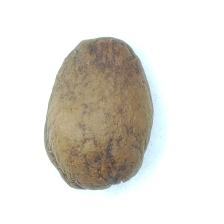NG: (52, 145, 134, 192)
